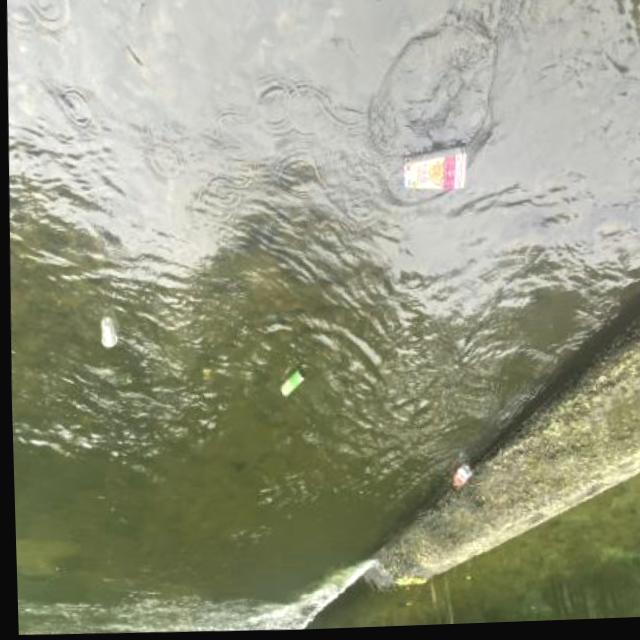Can-Metal: (270, 364, 308, 404)
Cardboard: (394, 138, 472, 200)
Plastic: (443, 460, 475, 495), (93, 312, 119, 351)
